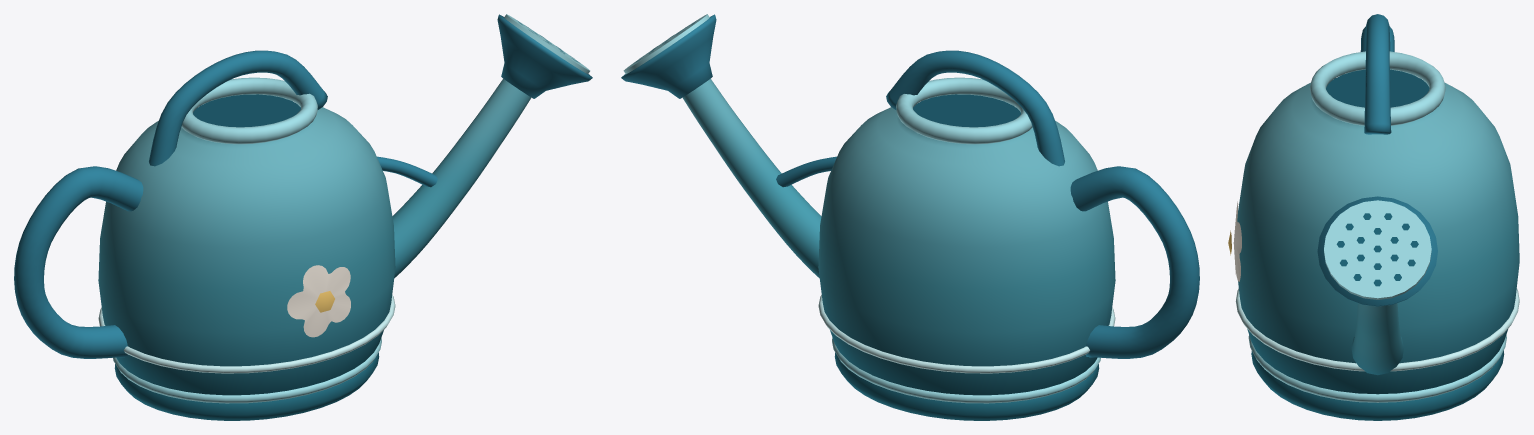
File: regador-azul.glb
The picture shows the model from 3 angles, left to right: view 1: azimuth 30°, elevation 25°; view 2: azimuth 150°, elevation 25°; view 3: azimuth 270°, elevation 25°; orthographic projection. The views are drawn at different scales.
Parts seen in each view (by area): view 1: regador-azul; view 2: regador-azul; view 3: regador-azul.
Part boxes in pixels (x1,y1,x2,y2): regador-azul: [14, 14, 592, 420]; regador-azul: [621, 14, 1199, 420]; regador-azul: [1228, 14, 1519, 420].
Size of the model in its own units: 1.95 by 1.06 by 0.822.
